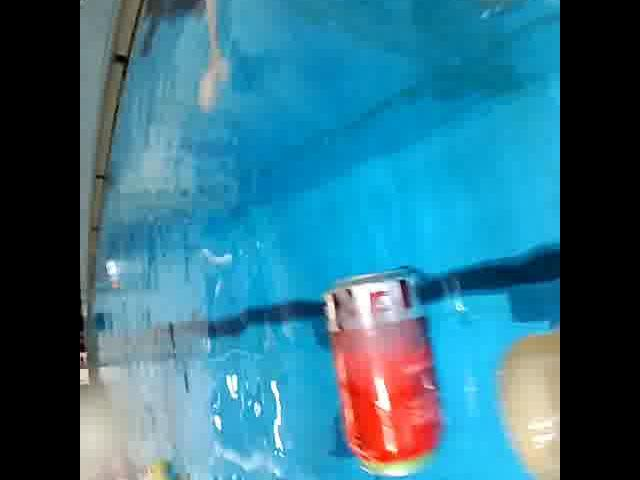Bottle: (485, 322, 560, 480), (102, 256, 128, 299)
Can: (315, 264, 459, 480), (141, 455, 183, 480)
